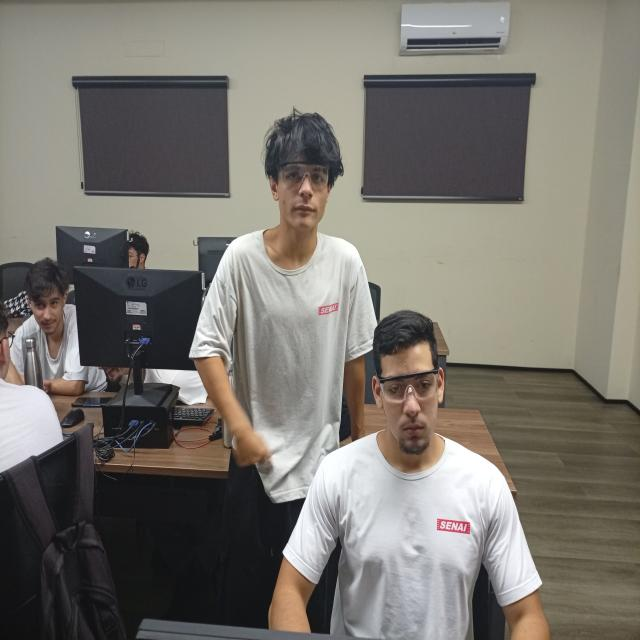oculos-epi: (378, 367, 440, 404), (281, 163, 328, 191)
sem_oculos: (28, 299, 76, 316), (0, 326, 17, 358), (123, 250, 142, 261)
